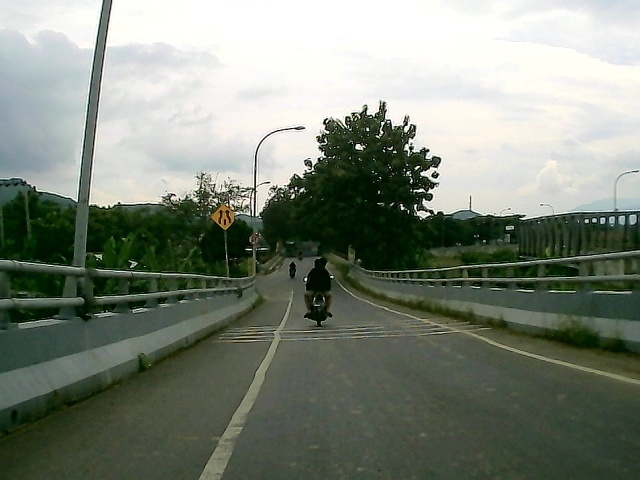Akhir bangunan pemisah satu arah: (208, 203, 238, 231)
Dilarang berbalik arah: (245, 233, 262, 246)
